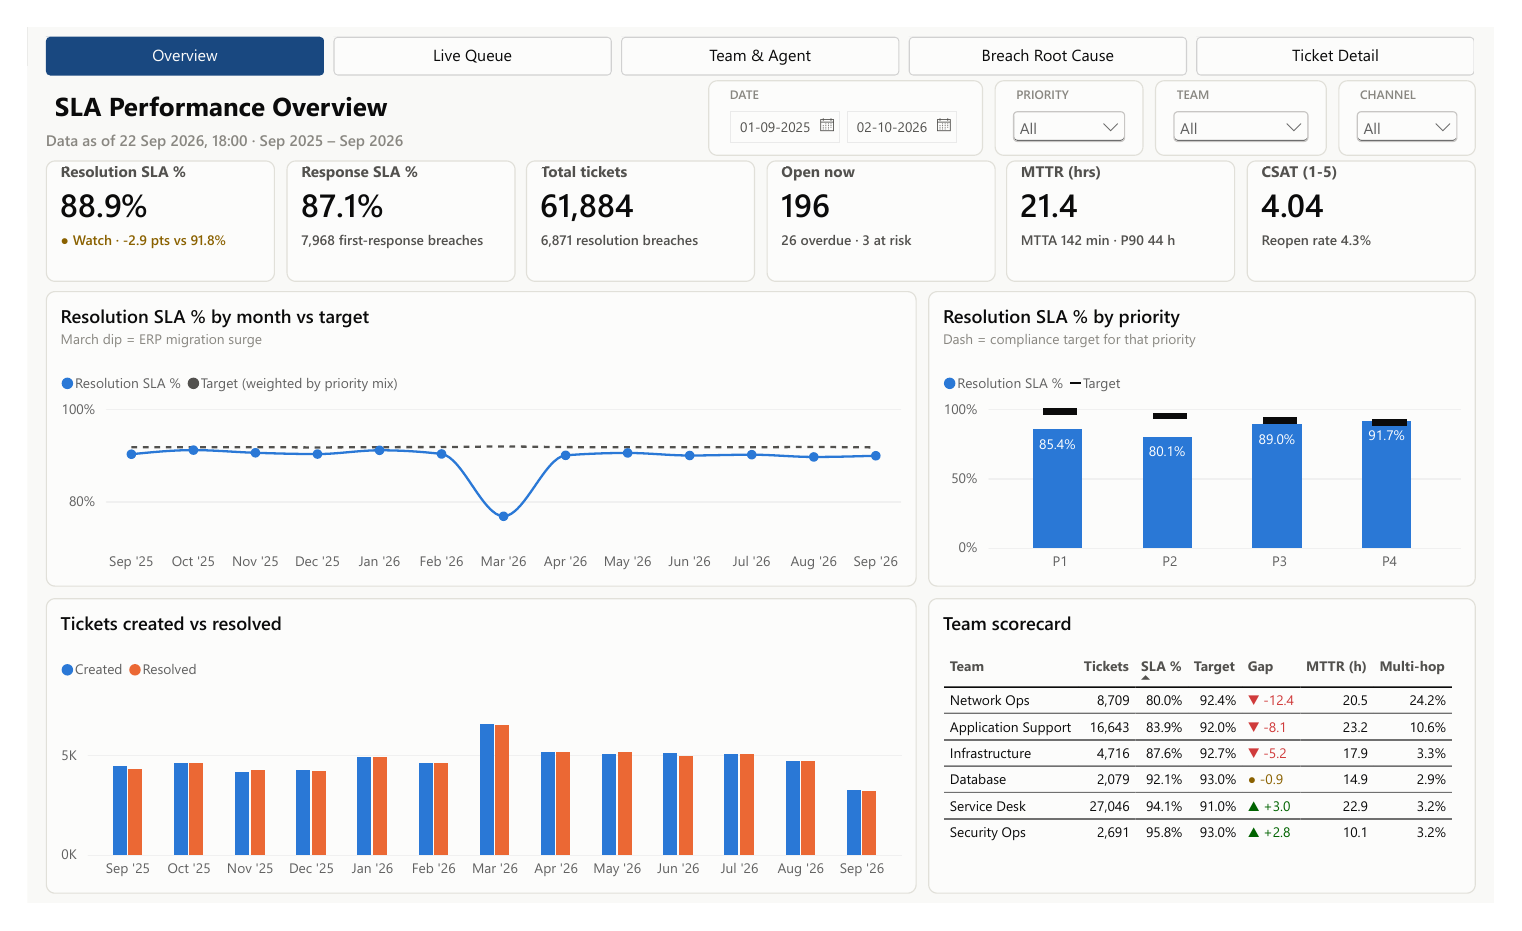

What the dashboard file says about the page in this screenshot:
{"tool":"powerbi","page":{"name":"Overview","canvas":[1280,764],"ordinal":0},"visuals":[{"type":"pageNavigator","box":[16,8,1248,34],"z":1000},{"type":"textbox","box":[12,44,640,46],"z":2000},{"type":"cardVisual","fields":{"Data":["_Measures.As Of Label"]},"box":[12,82,560,30],"z":3000},{"type":"slicer","fields":{"Values":["DimDate.Date"]},"box":[594,46,240,66],"z":4000},{"type":"slicer","fields":{"Values":["DimPriority.Priority"]},"box":[844,46,130,66],"z":5000},{"type":"slicer","fields":{"Values":["DimTeam.Team"]},"box":[984,46,150,66],"z":6000},{"type":"slicer","fields":{"Values":["FactTickets.Channel"]},"box":[1144,46,120,66],"z":7000},{"type":"cardVisual","fields":{"Data":["_Measures.Resolution SLA %"]},"box":[16,116,200,106],"z":8000},{"type":"cardVisual","fields":{"Data":["_Measures.Response SLA %"]},"box":[226,116,200,106],"z":9000},{"type":"cardVisual","fields":{"Data":["_Measures.Total Tickets"]},"box":[435,116,200,106],"z":10000},{"type":"cardVisual","fields":{"Data":["_Measures.Open Tickets"]},"box":[645,116,200,106],"z":11000},{"type":"cardVisual","fields":{"Data":["_Measures.MTTR (hrs)"]},"box":[854,116,200,106],"z":12000},{"type":"cardVisual","fields":{"Data":["_Measures.Avg CSAT"]},"box":[1064,116,200,106],"z":13000},{"type":"lineChart","title":"Resolution SLA % by month vs target","fields":{"Category":["DimDate.MonthLabel"],"Y":["_Measures.Resolution SLA %","_Measures.SLA Target %"]},"box":[16,230,760,258],"z":14000},{"type":"lineClusteredColumnComboChart","title":"Resolution SLA % by priority","fields":{"Category":["DimPriority.PriorityShort"],"Y":["_Measures.Resolution SLA %"],"Y2":["_Measures.SLA Target %"]},"box":[786,230,478,258],"z":15000},{"type":"clusteredColumnChart","title":"Tickets created vs resolved","fields":{"Category":["DimDate.MonthLabel"],"Y":["_Measures.Total Tickets","_Measures.Tickets Resolved (Resolved Date)"]},"box":[16,498,760,258],"z":16000},{"type":"tableEx","title":"Team scorecard","fields":{"Values":["DimTeam.Team","_Measures.Total Tickets","_Measures.Resolution SLA %","_Measures.SLA Target %","_Measures.SLA Gap Label","_Measures.MTTR (hrs)","_Measures.Multi-Hop %"]},"box":[786,498,478,258],"z":17000}]}

Visuals, with their boxes in screenshot pixels (x1, y1, x2, y2), scaled from the page's 1280x764 canvas onto the 1522x931 screenshot:
pageNavigator: detection(19, 10, 1503, 51)
textbox: detection(14, 54, 775, 110)
cardVisual - _Measures.As Of Label: detection(14, 100, 680, 136)
slicer - DimDate.Date: detection(706, 56, 992, 136)
slicer - DimPriority.Priority: detection(1004, 56, 1158, 136)
slicer - DimTeam.Team: detection(1170, 56, 1348, 136)
slicer - FactTickets.Channel: detection(1360, 56, 1503, 136)
cardVisual - _Measures.Resolution SLA %: detection(19, 141, 257, 271)
cardVisual - _Measures.Response SLA %: detection(269, 141, 507, 271)
cardVisual - _Measures.Total Tickets: detection(517, 141, 755, 271)
cardVisual - _Measures.Open Tickets: detection(767, 141, 1005, 271)
cardVisual - _Measures.MTTR (hrs): detection(1015, 141, 1253, 271)
cardVisual - _Measures.Avg CSAT: detection(1265, 141, 1503, 271)
"Resolution SLA % by month vs target" lineChart: detection(19, 280, 923, 595)
"Resolution SLA % by priority" lineClusteredColumnComboChart: detection(935, 280, 1503, 595)
"Tickets created vs resolved" clusteredColumnChart: detection(19, 607, 923, 921)
"Team scorecard" tableEx: detection(935, 607, 1503, 921)
